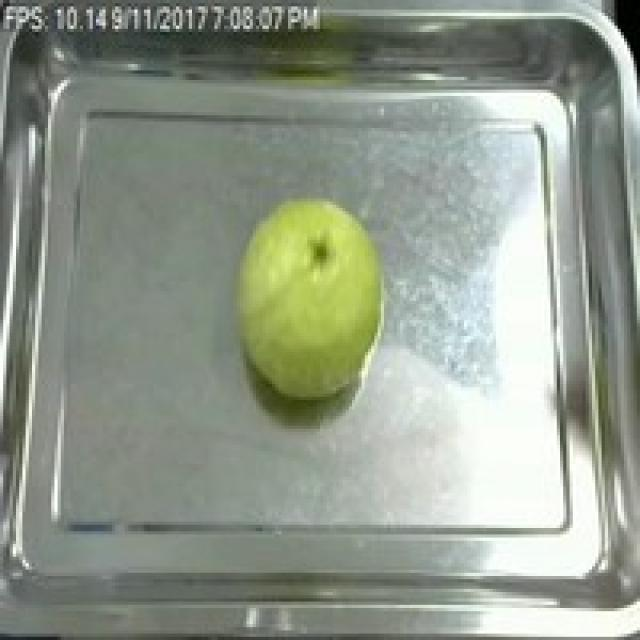Fruit: (220, 186, 394, 407)
